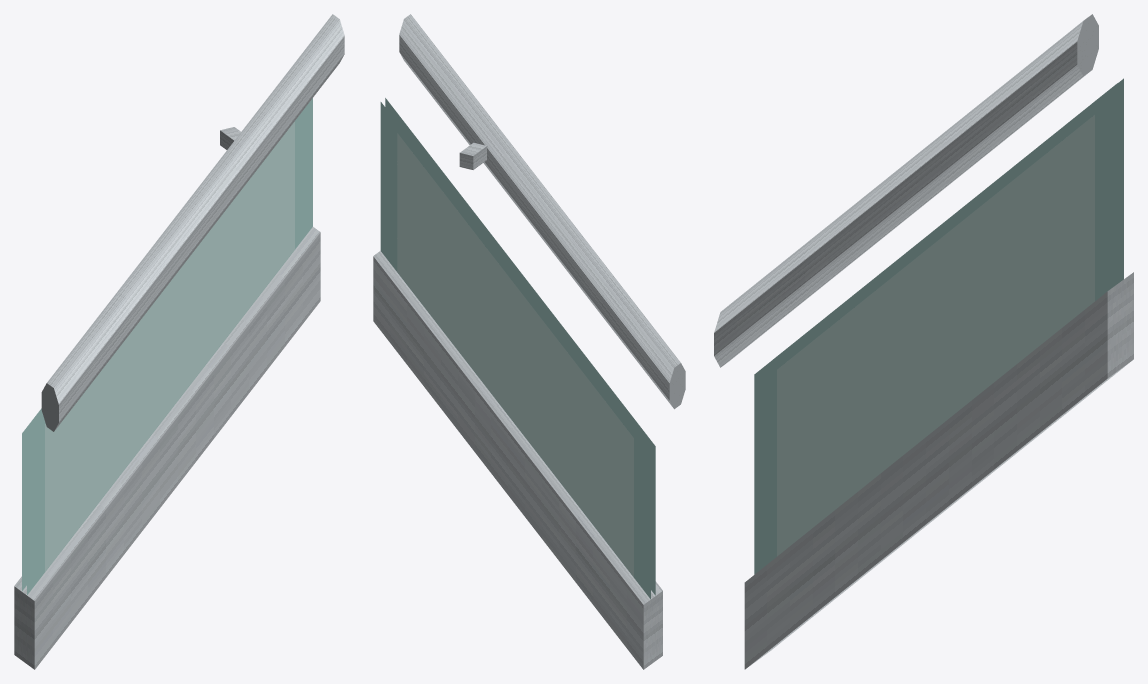
Rendered from mid_pos.obj.
3 renders of one model, left to right at view 1: azimuth 30°, elevation 25°; view 2: azimuth 150°, elevation 25°; view 3: azimuth 330°, elevation 25°, orthographic. The views are drawn at different scales.
Parts seen in each view (by area): view 1: railing_glass_stainless_mid_pos; view 2: railing_glass_stainless_mid_pos; view 3: railing_glass_stainless_mid_pos.
Part boxes in pixels (box(x1,y1,x2,y2)): railing_glass_stainless_mid_pos: box(14, 14, 344, 669); railing_glass_stainless_mid_pos: box(373, 14, 685, 669); railing_glass_stainless_mid_pos: box(714, 14, 1133, 669).
Bounding box in the file's own units: 1 × 1.99 × 0.2707.
